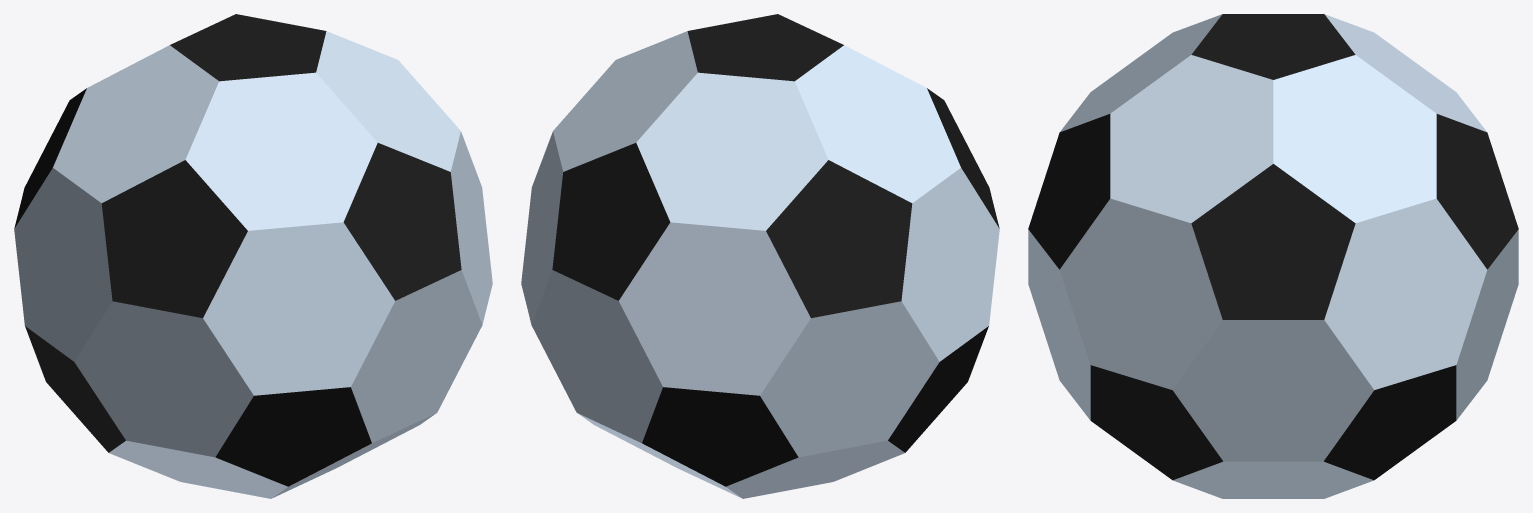
File: Football.fbx
3 views of the same model, side by side, from view 1: azimuth 30°, elevation 25°; view 2: azimuth 150°, elevation 25°; view 3: azimuth 270°, elevation 25° (orthographic). The views are drawn at different scales.
Parts seen in each view (by area): view 1: FootballBall; view 2: FootballBall; view 3: FootballBall.
Boxes of the visible parts, <box> form: FootballBall: <box>14,14,492,498</box>; FootballBall: <box>521,14,999,498</box>; FootballBall: <box>1028,14,1518,498</box>.
Bounding box in the file's own units: 135 × 131 × 137.
1 material, 1 textured.
